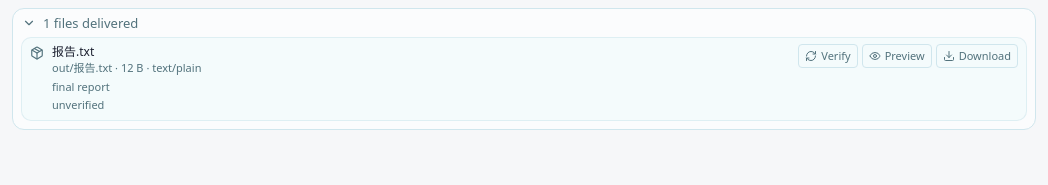
it: DeliverableCard › preview toggles a bounded text excerpt inside the card
This screenshot has width=1048, height=185.
Click the button with aria-label "Preview 报告.txt" at (897, 56), box [862,44,932,68]
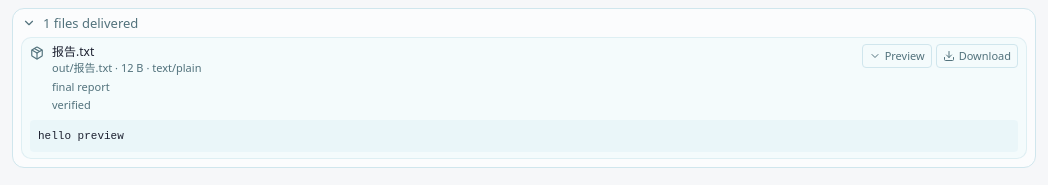
Now the text "hello preview" is shown, box [30,120,1018,152]
